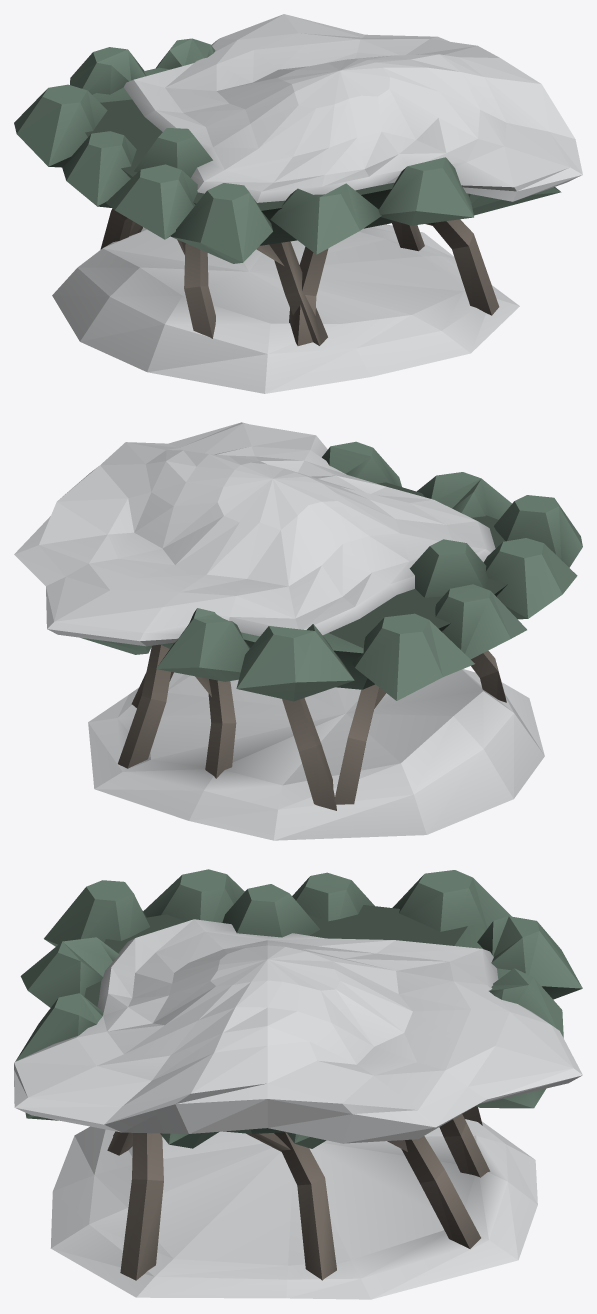
The model's file is dwarf.glb.
The picture shows the model from 3 angles, top to bottom: view 1: azimuth 30°, elevation 25°; view 2: azimuth 150°, elevation 25°; view 3: azimuth 270°, elevation 25°; orthographic projection. The views are drawn at different scales.
Parts seen in each view (by area): view 1: dwarf; view 2: dwarf; view 3: dwarf.
Boxes of the visible parts, bbox=[...] form: dwarf: bbox=[14, 14, 582, 393]; dwarf: bbox=[14, 422, 582, 840]; dwarf: bbox=[14, 869, 582, 1299].
Bounding box in the file's own units: 2.5 × 1.29 × 2.5.
